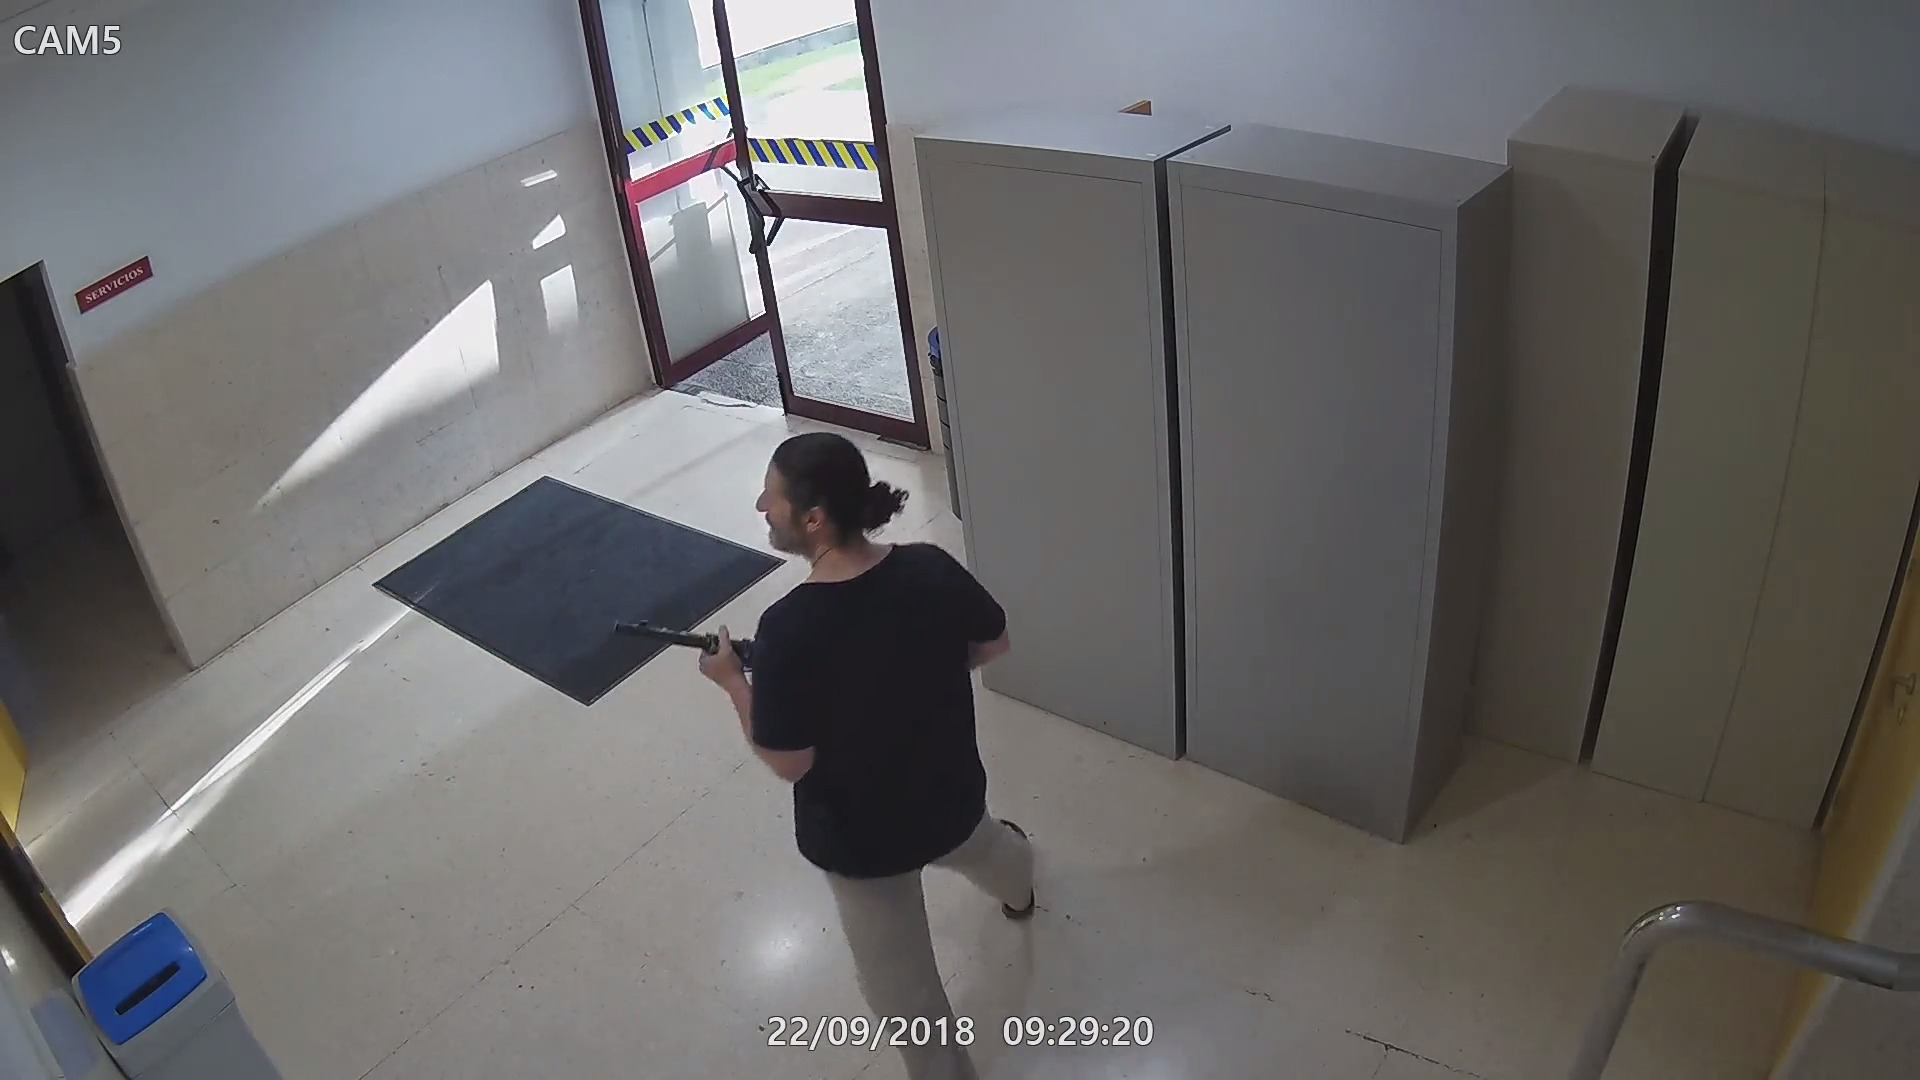Short_rifle: (603, 608, 764, 688)
